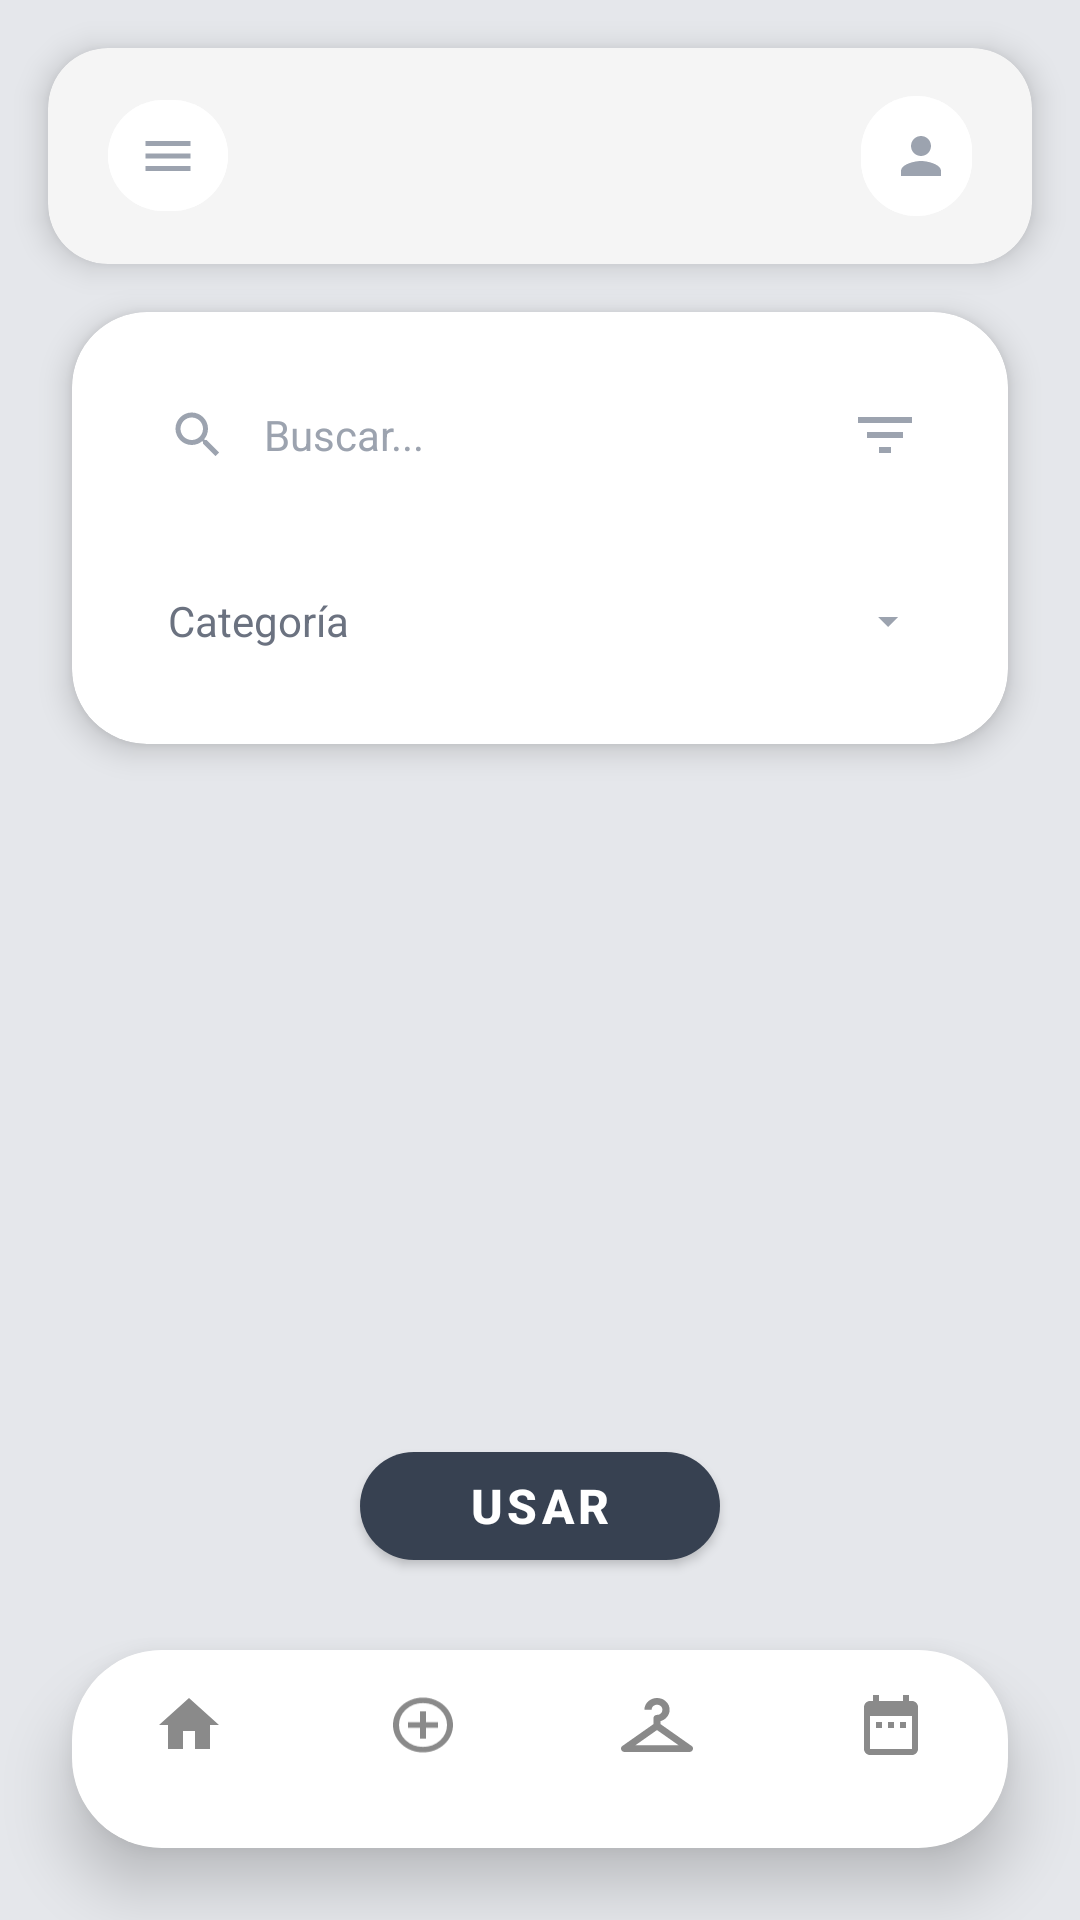

Icons on this 1080px×1920px Android screen, each with the point to tap as point (x, y):
filter: point (885, 435)
menu: point (168, 156)
person: point (921, 156)
search: point (197, 434)
